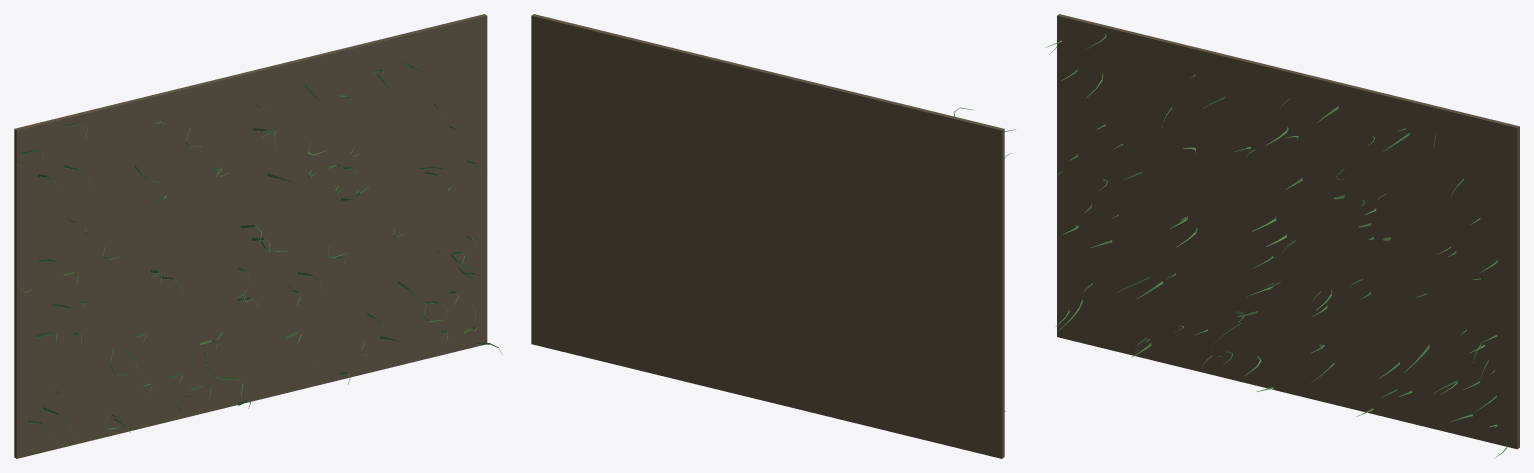
The model's file is grass.glb.
3 views of the same model, side by side, from view 1: azimuth 30°, elevation 25°; view 2: azimuth 150°, elevation 25°; view 3: azimuth 330°, elevation 25° (orthographic). The views are drawn at different scales.
Parts seen in each view (by area): view 1: soil_base, individual_grass_blades; view 2: soil_base; view 3: soil_base, individual_grass_blades.
Boxes of the visible parts, box(x1,y1,x2,y2) form: soil_base: box(14, 14, 487, 458); individual_grass_blades: box(17, 62, 502, 439); soil_base: box(531, 14, 1004, 458); soil_base: box(1057, 14, 1519, 449); individual_grass_blades: box(1045, 34, 1507, 458).
Size of the model in its own units: 6 by 4.01 by 0.6871.
